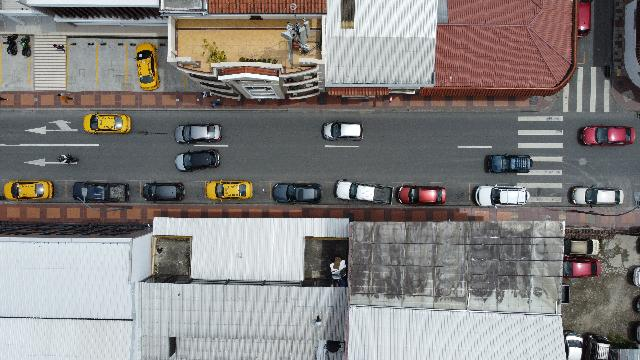Vehiculo: (333, 180, 392, 204), (577, 124, 635, 146), (134, 43, 160, 91), (474, 185, 530, 207), (568, 186, 624, 206), (73, 182, 129, 202), (272, 182, 322, 204), (176, 148, 220, 172), (84, 112, 130, 134), (4, 180, 54, 200), (174, 124, 222, 144), (485, 154, 533, 174), (396, 185, 446, 204), (205, 180, 252, 200), (564, 254, 600, 278), (142, 182, 184, 202), (322, 121, 362, 141), (583, 332, 611, 360), (576, 1, 592, 38), (564, 239, 600, 255), (564, 330, 582, 360)
